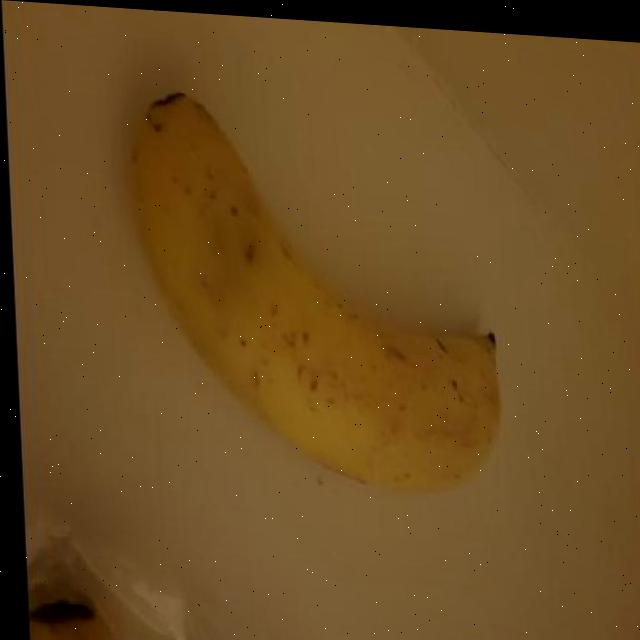banana: (119, 81, 519, 508)
